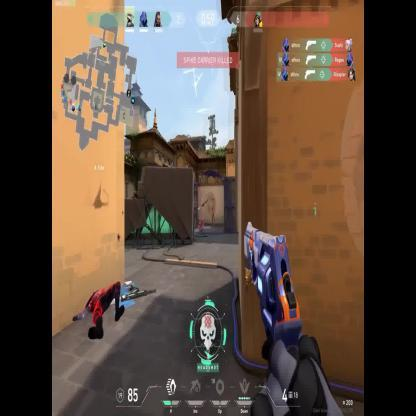enemy: (212, 204, 215, 225), (212, 205, 214, 209)
